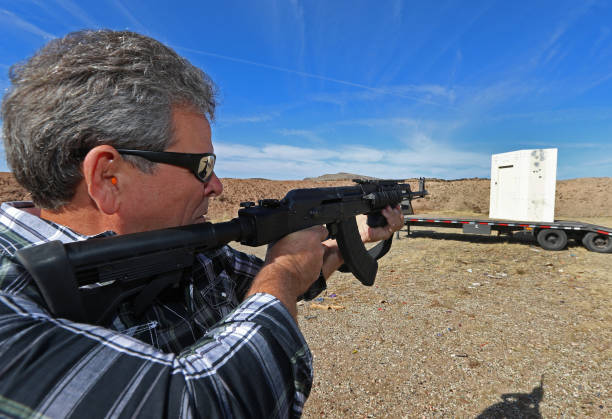rifle: (13, 175, 439, 326)
